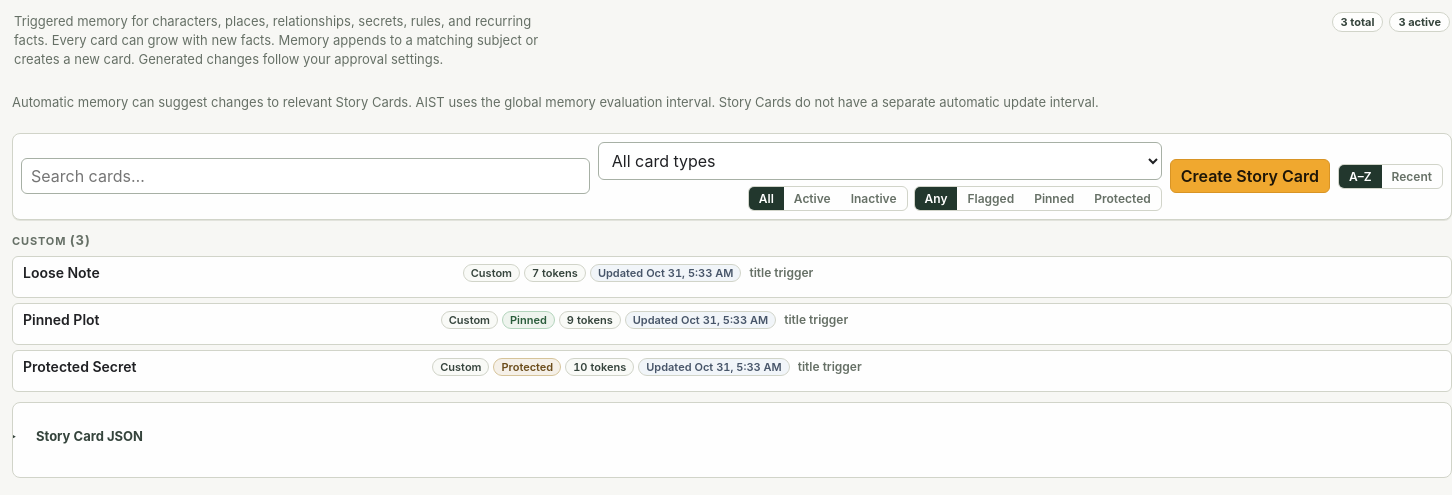
Scenario: side menu page smoke coverage › filters Story Cards by pinned and protected flags
Click the button "Flagged" at [991, 198], box [958, 186, 1024, 210]
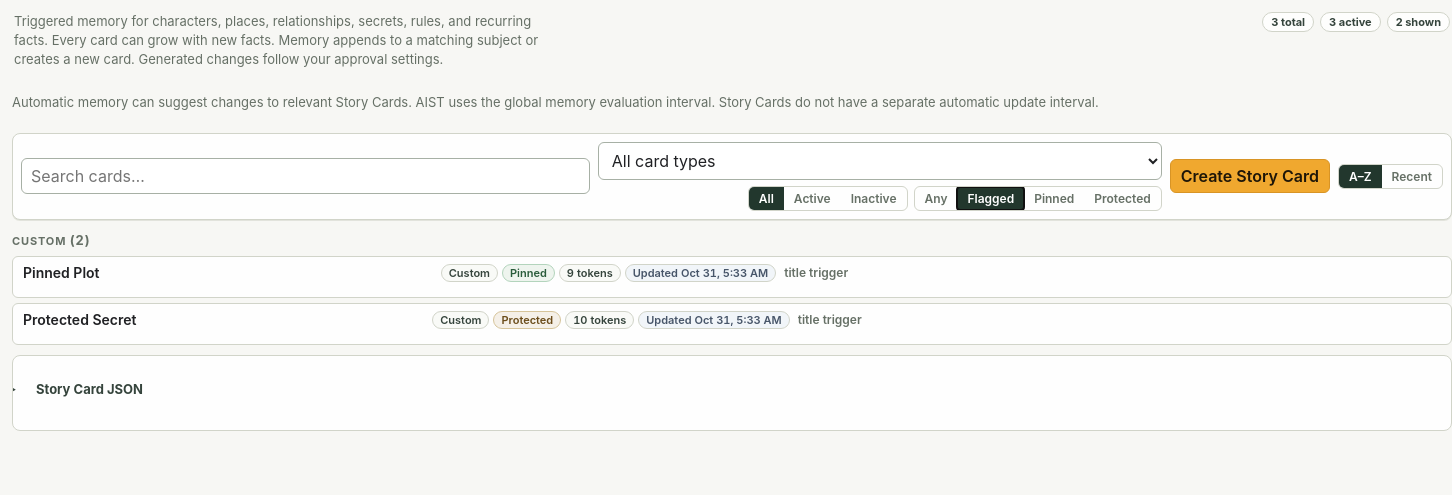
Check: the element with class "story-card-editor-item" shows "Pinned Plot", box [23, 264, 100, 281]
Check: the number of elements with class "story-card-editor-item" is 2, box [12, 256, 1451, 298]; [12, 302, 1451, 344]
Check: the text "2 shown" is shown, box [1387, 12, 1450, 32]
Click the button "Pinned" at [1054, 198], box [1024, 186, 1084, 210]
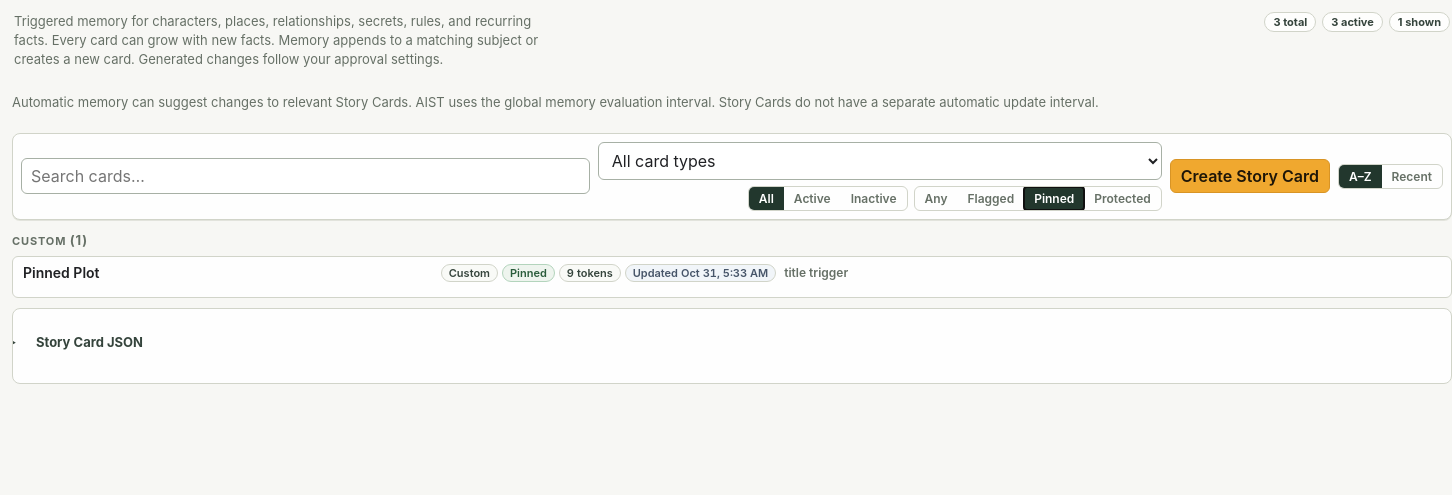
Check: the element with class "story-card-editor-item" shows "Pinned Plot", box [23, 264, 100, 281]
Check: the element with class "story-card-editor-item" does not show "Loose Note", box [12, 256, 1451, 298]
Check: the number of elements with class "story-card-editor-item" is 1, box [12, 256, 1451, 298]
Click the button "Protected" at [1123, 198], box [1084, 186, 1161, 210]
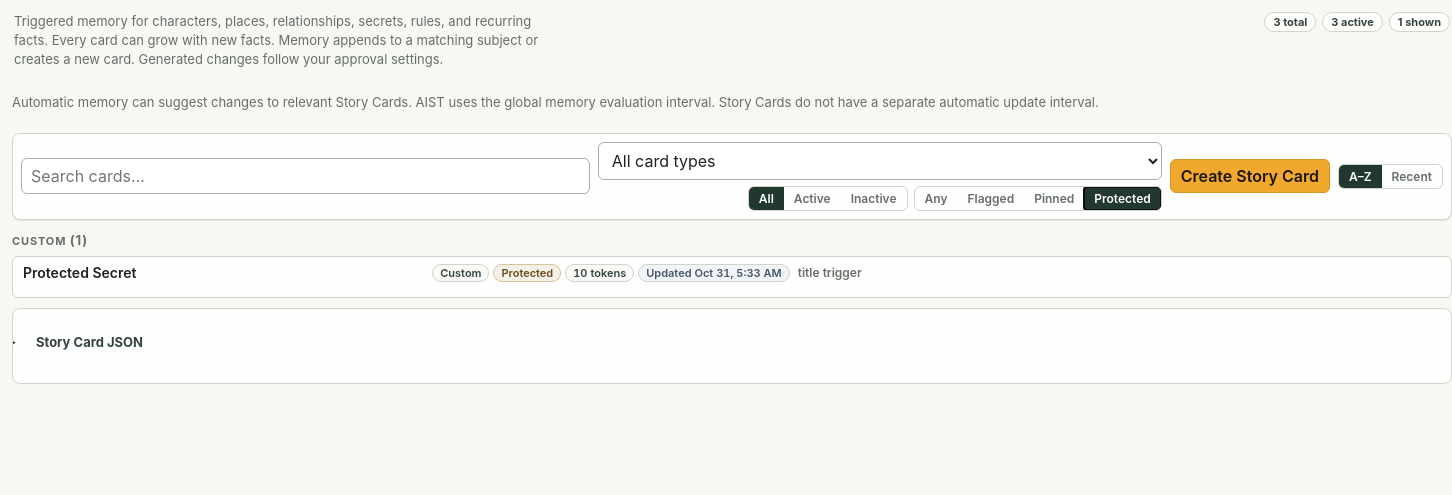
Check: the number of elements with class "story-card-editor-item" is 1, box [12, 256, 1451, 298]
Check: the element with class "story-card-editor-item" shows "Protected Secret", box [23, 264, 136, 281]
Check: the element with class "story-card-editor-item" no longer shows "Pinned Plot", box [12, 256, 1451, 298]
